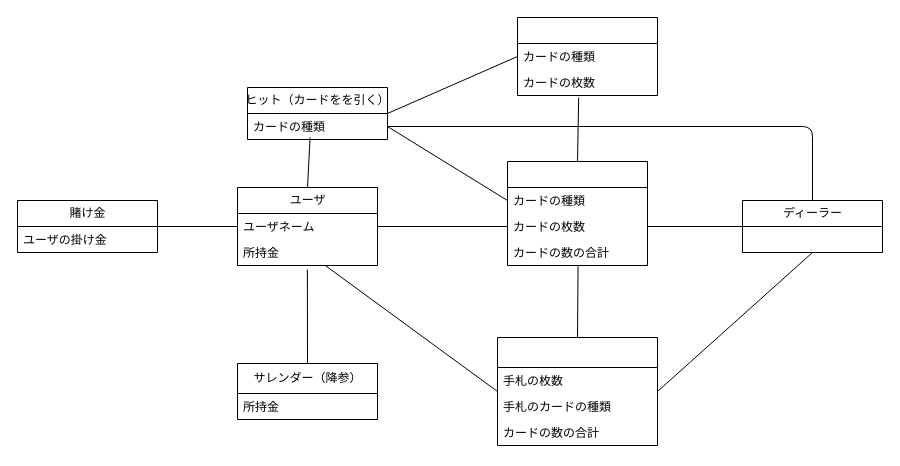
Some shapes in this 900 by 466 pixel diagram are drawn without their labels. Each missing label, with the box of its shape:
スタンド（手札の決定）: (496, 336, 658, 446)
山札: (516, 16, 658, 96)
手札: (506, 160, 648, 266)
